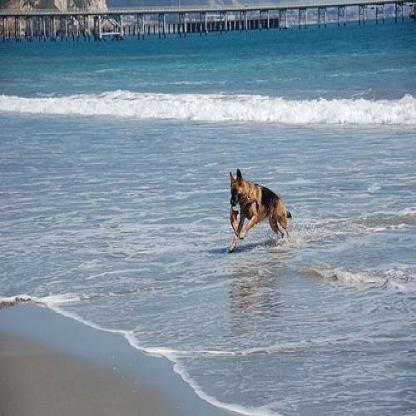German_shepherd: (226, 167, 292, 253)
